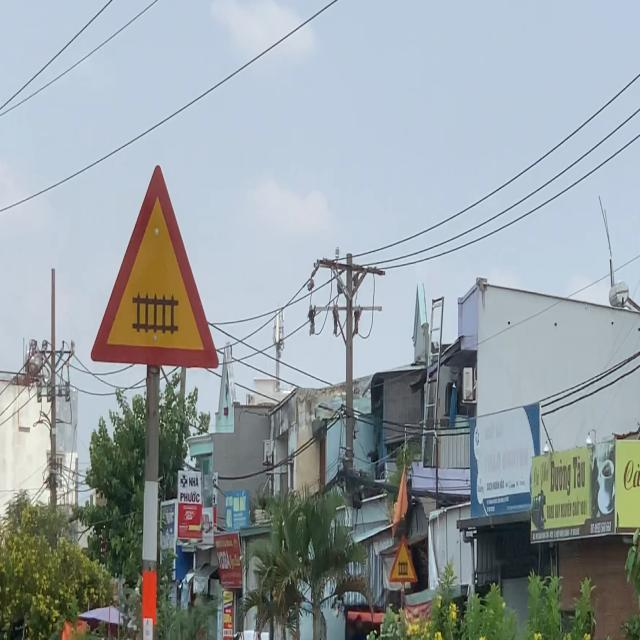Nguy hiem: (90, 164, 219, 371), (389, 533, 418, 583)
